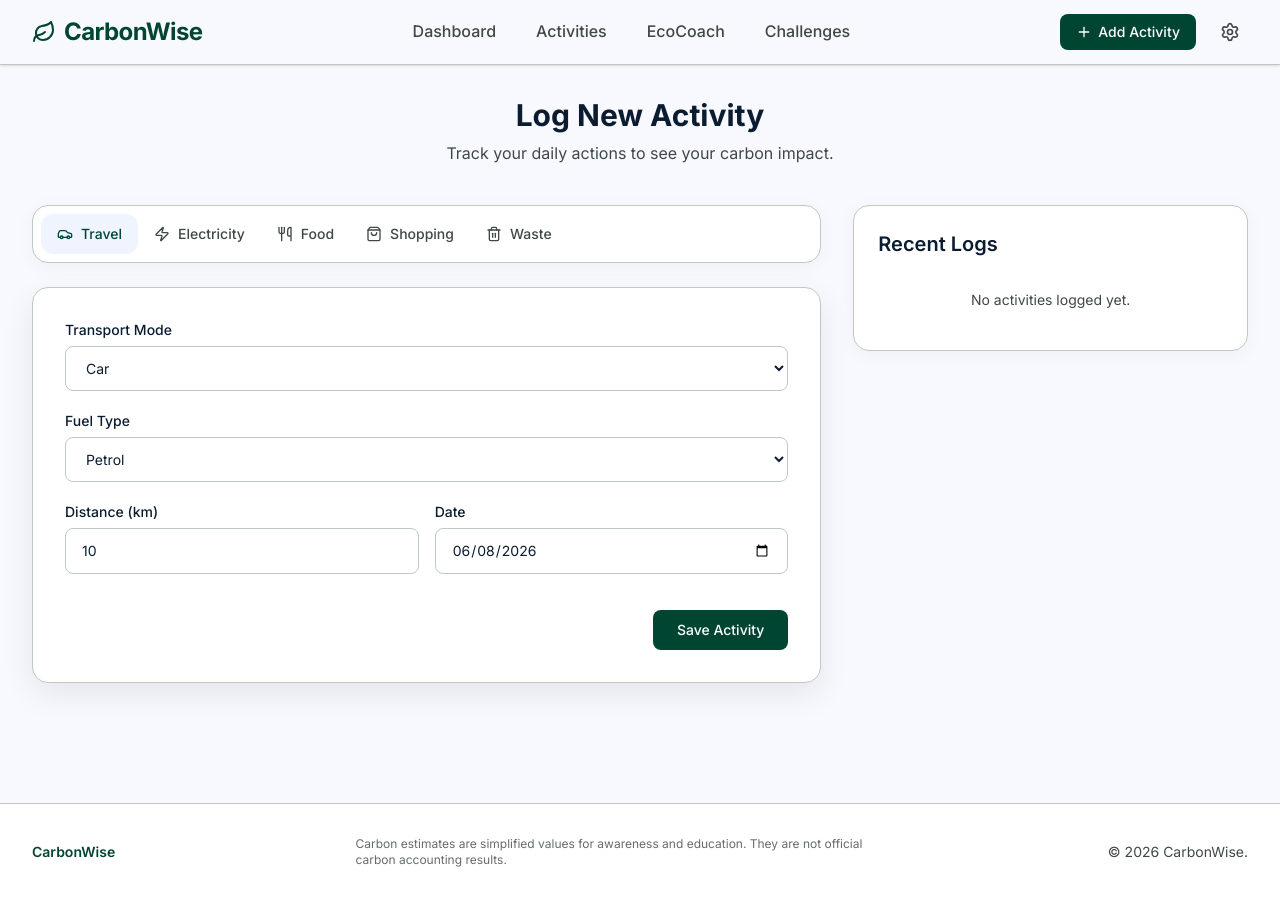
Test case: AddActivityPage › can switch tabs
Expected: the text "Transport Mode" is shown, [65, 321, 172, 338]
// Switch to Food
Click the button "Food". click: [305, 234]
box: [261, 214, 350, 254]
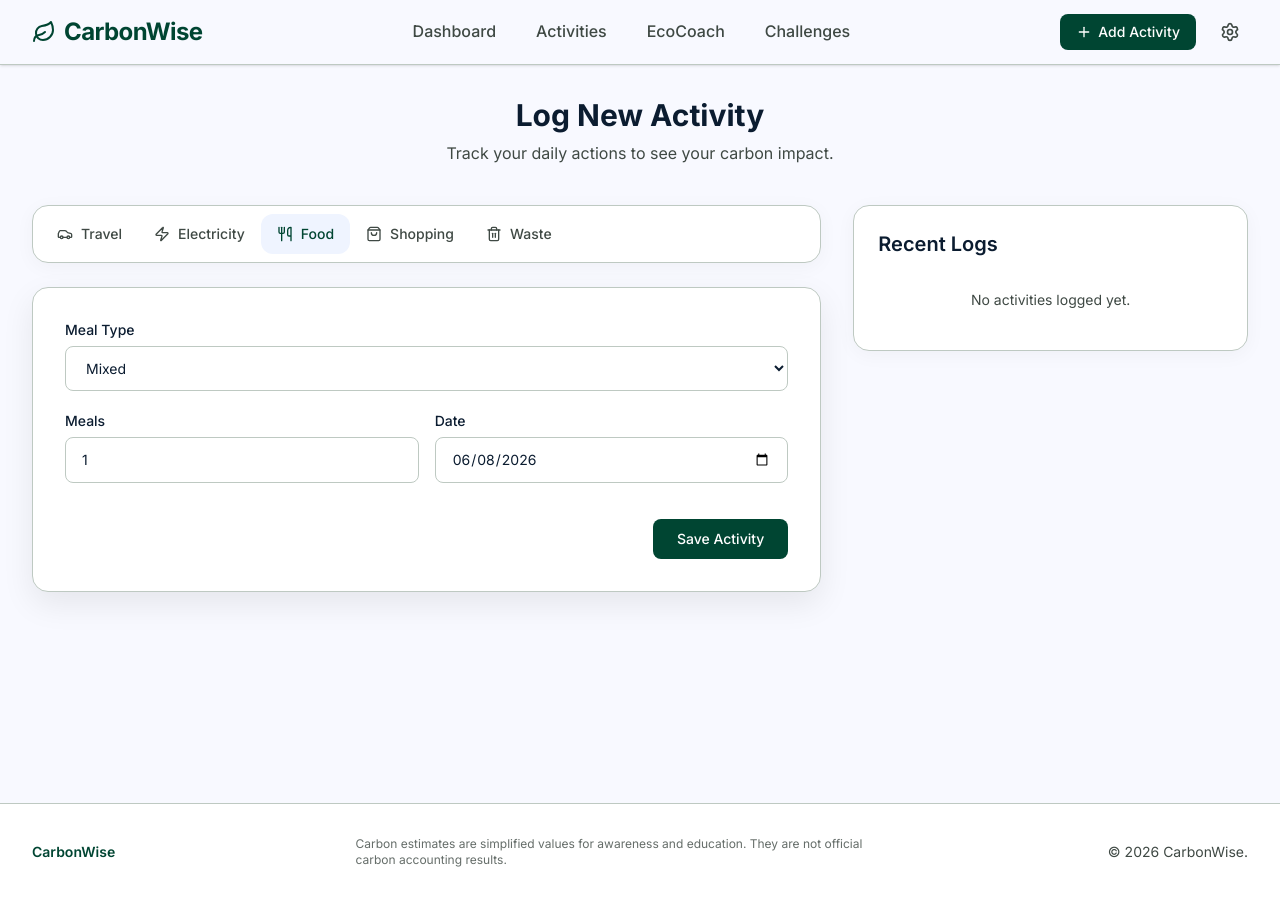
Expected: the text "Meal Type" is shown, [65, 321, 134, 338]
